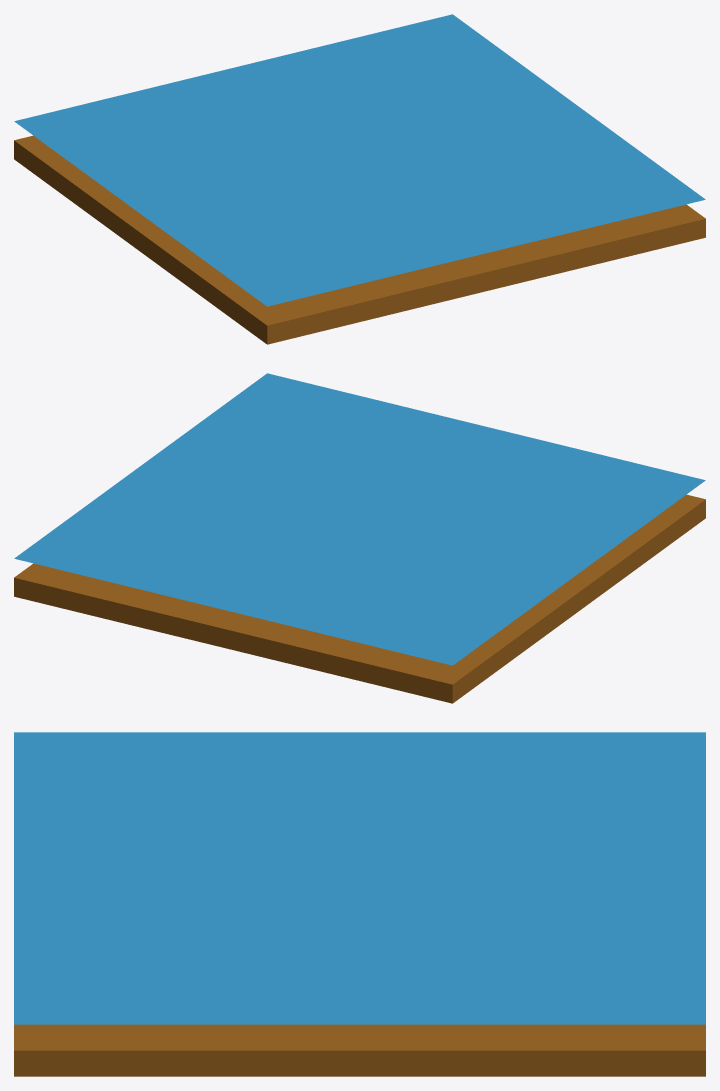
Rendered from WaterTile.fbx.
3 renders of one model, top to bottom at view 1: azimuth 30°, elevation 25°; view 2: azimuth 150°, elevation 25°; view 3: azimuth 270°, elevation 25°, orthographic. The views are drawn at different scales.
Visible parts, largest first — view 1: Cube.003; view 2: Cube.003; view 3: Cube.003.
Part boxes in pixels (x1,y1,x2,y2): Cube.003: [14, 14, 705, 344]; Cube.003: [14, 373, 705, 703]; Cube.003: [14, 732, 705, 1076].
Bounding box in the file's own units: 100 × 8.28 × 100.
